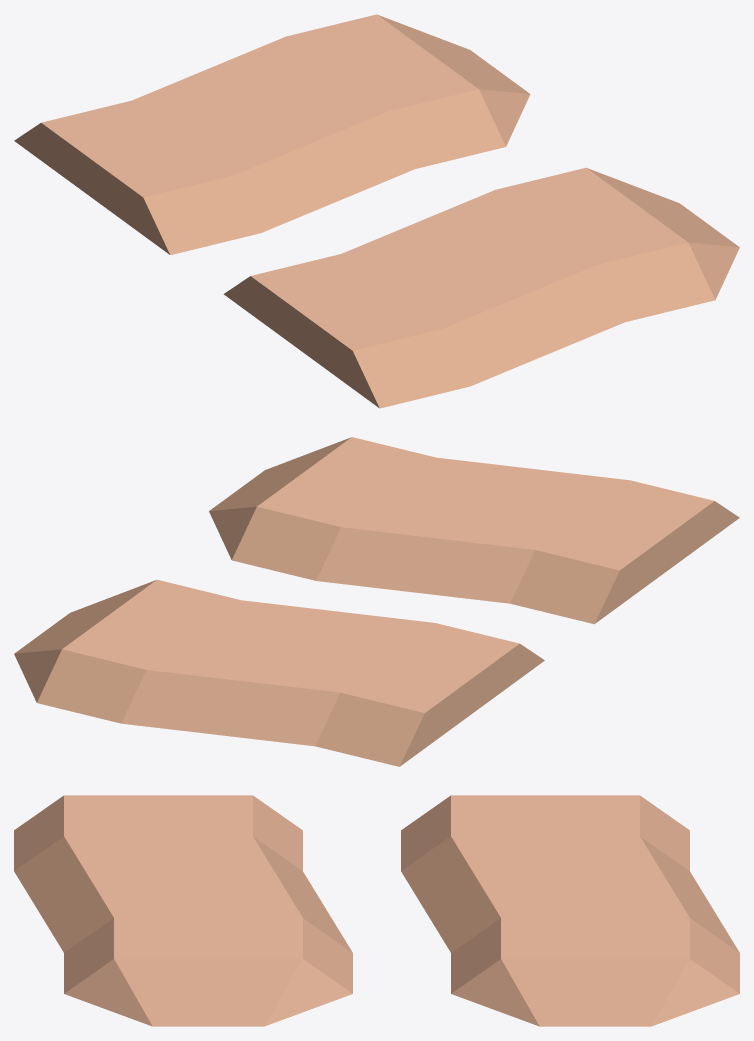
File: crops_dirtDoubleRowEnd.gltf
3 views of the same model, one above another, from view 1: azimuth 30°, elevation 25°; view 2: azimuth 150°, elevation 25°; view 3: azimuth 270°, elevation 25° (orthographic). The views are drawn at different scales.
Parts seen in each view (by area): view 1: crops_dirtDoubleRowEnd; view 2: crops_dirtDoubleRowEnd; view 3: crops_dirtDoubleRowEnd.
Part boxes in pixels (<box>): crops_dirtDoubleRowEnd: <box>14,14,739,408</box>; crops_dirtDoubleRowEnd: <box>14,437,739,766</box>; crops_dirtDoubleRowEnd: <box>14,795,739,1026</box>.
Bounding box in the file's own units: 0.6 × 0.05 × 0.938.
